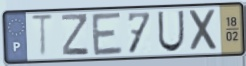7: (125, 10, 152, 55)
E: (90, 11, 125, 58)
T: (29, 13, 56, 60)
U: (156, 9, 186, 54)
X: (187, 8, 220, 54)
Z: (60, 12, 91, 58)
